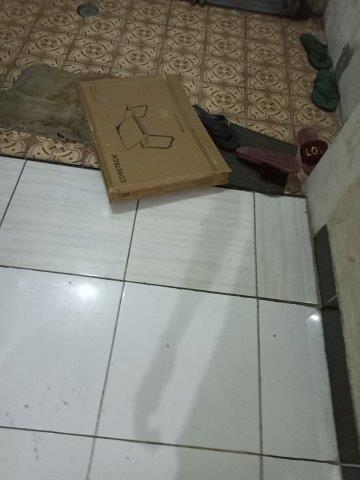kardus: (82, 78, 228, 199)
